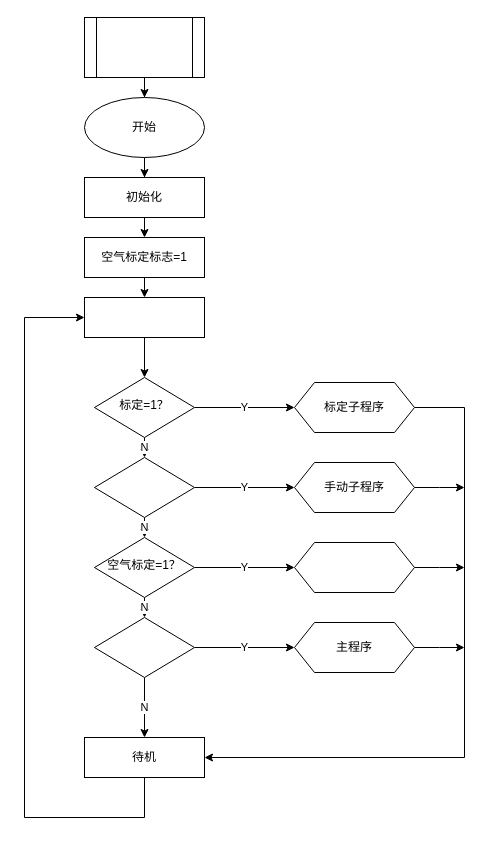
Image size: 490x843. Some labels were removed from this diagram. Each missing label, with the centre of its shape:
"MAIN" goes at [144,47].
"手动=1？" goes at [144,487].
"满足启动条件？" goes at [144,647].
"空气标定子程序" goes at [354,567].
"自检" goes at [144,317].
